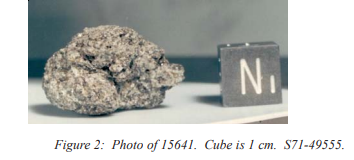Basalt: (41, 18, 187, 117)
